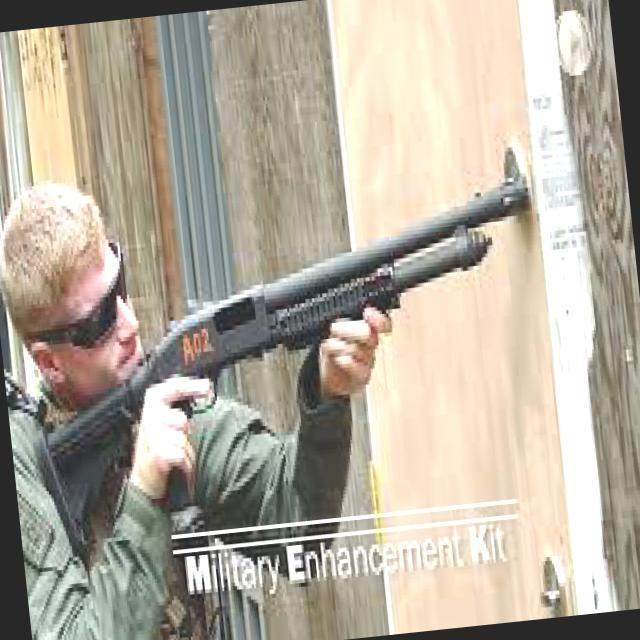long weapon: (37, 151, 532, 570)
